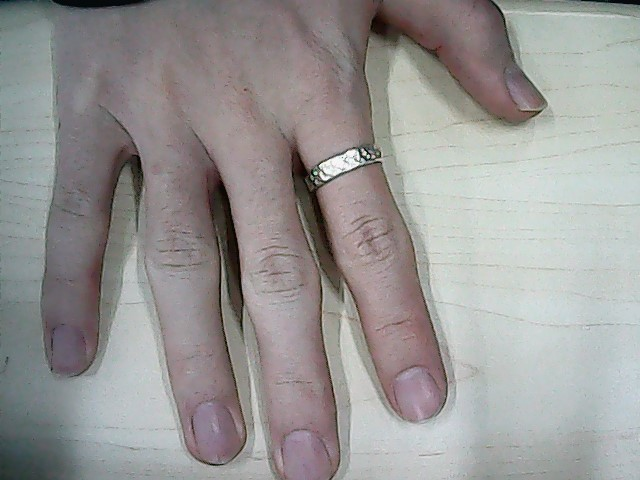nail: (186, 399, 242, 466), (391, 364, 444, 423), (281, 428, 334, 480), (45, 324, 89, 380), (503, 63, 550, 112)
